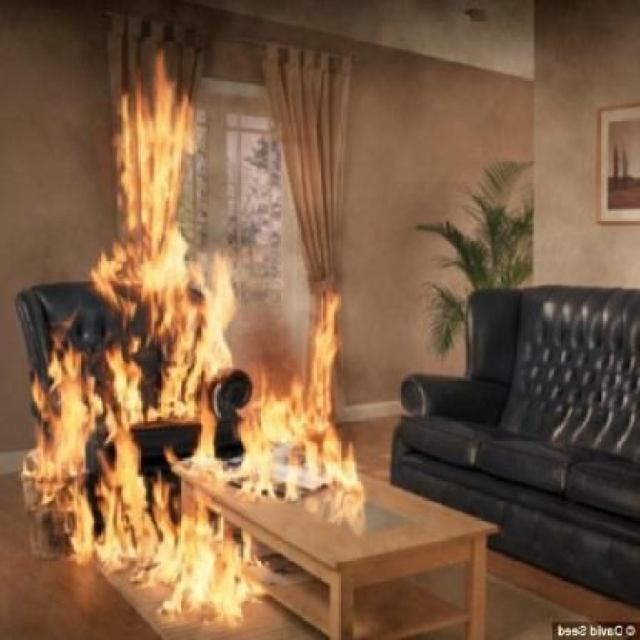fire: (21, 2, 352, 638)
